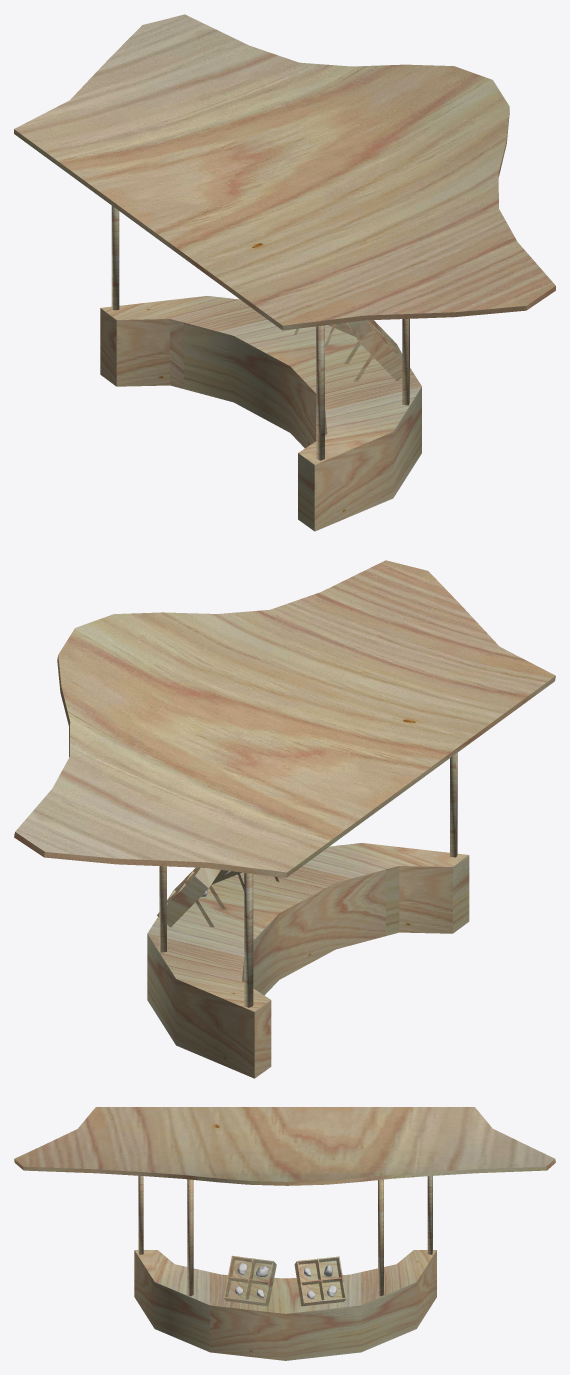
File: Shop1.fbx
3 views of the same model, one above another, from view 1: azimuth 30°, elevation 25°; view 2: azimuth 150°, elevation 25°; view 3: azimuth 270°, elevation 25° (orthographic). The views are drawn at different scales.
Visible parts, largest first — view 1: BezierCurve, Cylinder, Cube.001, Cube.003; view 2: BezierCurve, Cylinder, Cube.001, Cube.002; view 3: BezierCurve, Cylinder, Cube.001, Cube.002, Cube.003.
Part boxes in pixels (x1,y1,x2,y2): BezierCurve: (14,14,555,330); Cylinder: (100,296,421,531); Cube.001: (111,206,409,460); Cube.003: (344,320,410,381); BezierCurve: (14,560,555,877); Cylinder: (147,843,469,1078); Cube.001: (159,753,457,1007); Cube.002: (157,867,226,927); BezierCurve: (14,1107,555,1185); Cylinder: (134,1250,436,1360); Cube.001: (138,1175,432,1296); Cube.002: (294,1256,346,1306); Cube.003: (224,1255,276,1306).
Size of the model in its own units: 557 by 466 by 1072.
